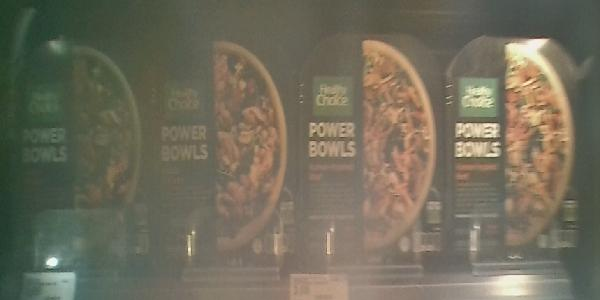pizza1: (155, 1, 297, 270), (297, 30, 449, 271), (10, 1, 154, 254), (449, 36, 581, 261)
